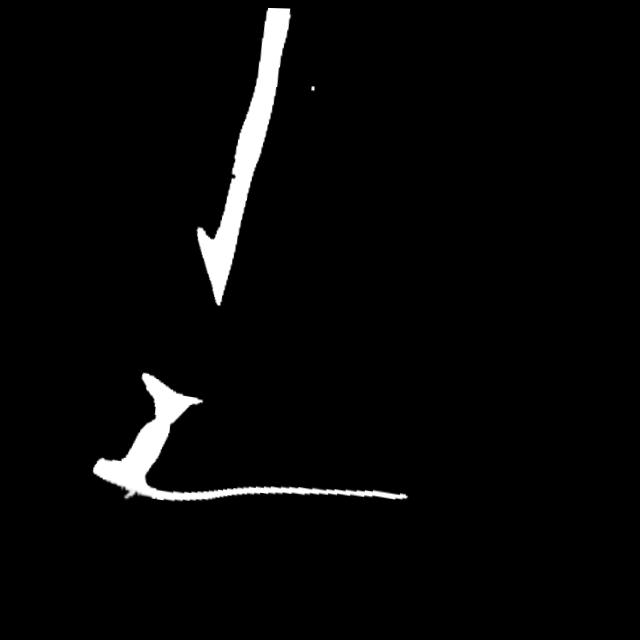sup_pli: (117, 485, 134, 502)
